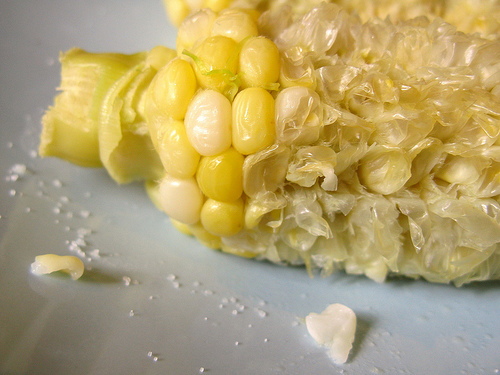corn: (37, 0, 499, 287)
